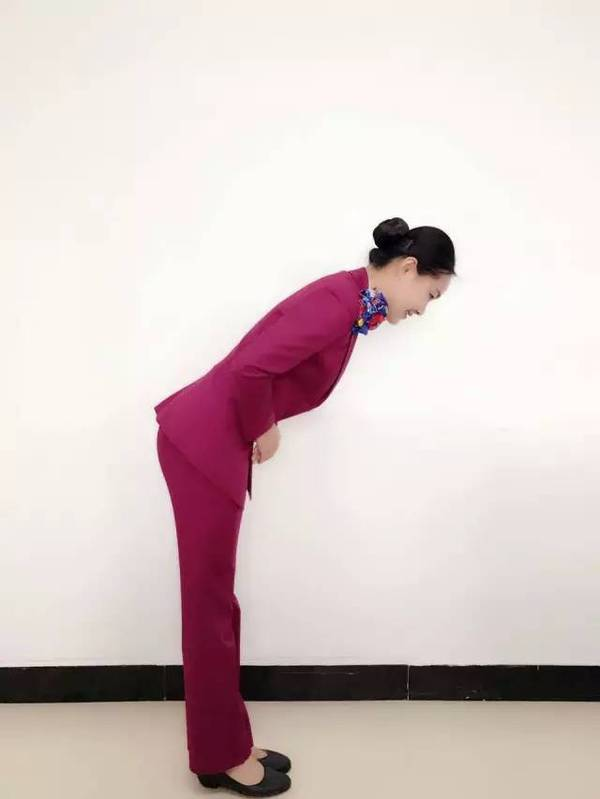bending: (139, 198, 465, 799)
